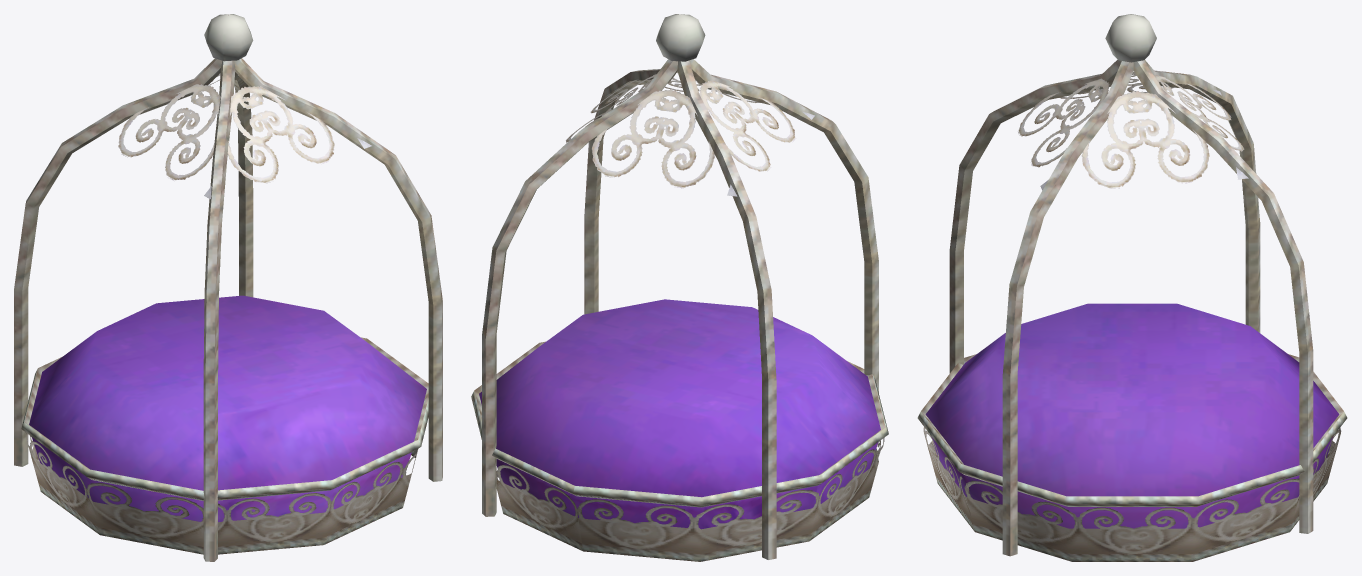
File: furni_0200131_01.FBX
3 renders of one model, left to right at view 1: azimuth 30°, elevation 25°; view 2: azimuth 150°, elevation 25°; view 3: azimuth 270°, elevation 25°, orthographic.
Parts seen in each view (by area): view 1: furni_0200131_01; view 2: furni_0200131_01; view 3: furni_0200131_01.
Part boxes in pixels (left/top/right/bottom): furni_0200131_01: left=14, top=14, right=442, bottom=561; furni_0200131_01: left=471, top=14, right=888, bottom=561; furni_0200131_01: left=917, top=14, right=1347, bottom=561.
Bounding box in the file's own units: 77.96 × 98.6 × 81.98.
